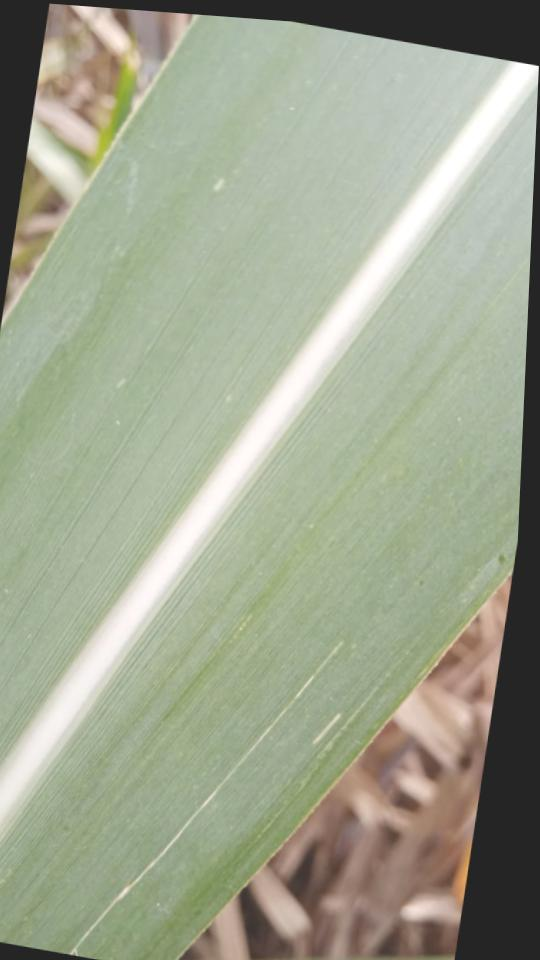Healthy: (0, 15, 539, 960)
